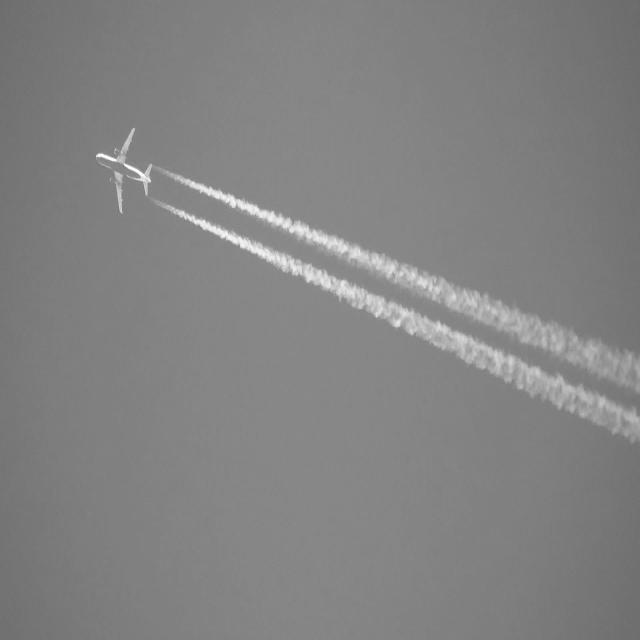aeroplane: (94, 126, 158, 215)
